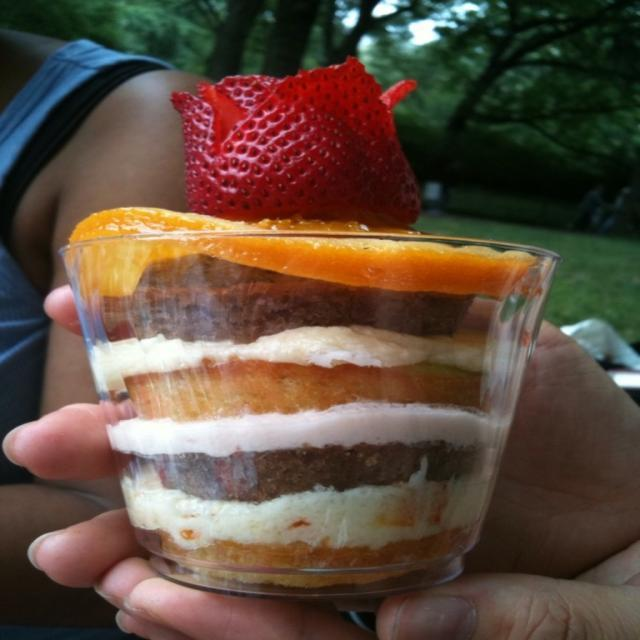Strawberry: (166, 73, 442, 218)
